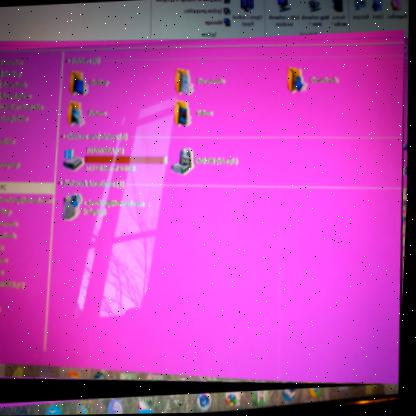fade: (0, 31, 414, 406)
